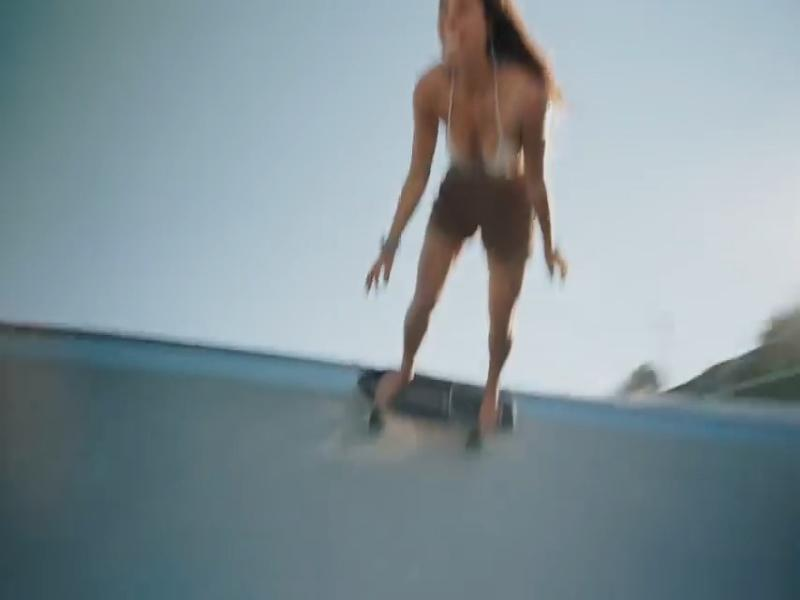person: (366, 0, 567, 449)
skate: (394, 375, 483, 424), (358, 369, 384, 397), (500, 392, 516, 428)
